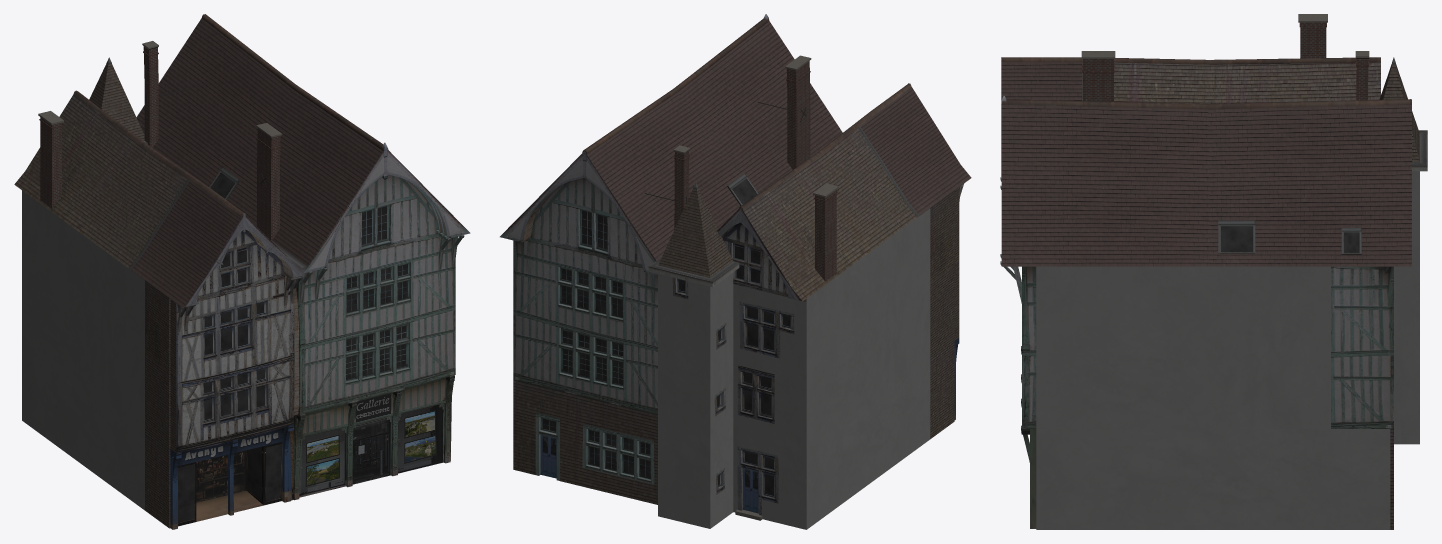
File: troyes_shop_8_france.glb
The picture shows the model from 3 angles, left to right: view 1: azimuth 30°, elevation 25°; view 2: azimuth 150°, elevation 25°; view 3: azimuth 270°, elevation 25°; orthographic projection. The views are drawn at different scales.
Parts seen in each view (by area): view 1: 17_17_0; view 2: 17_17_0; view 3: 17_17_0.
Boxes of the visible parts, x1,y1,x2,y2 form: 17_17_0: (14,14,470,529); 17_17_0: (500,14,971,529); 17_17_0: (1000,14,1427,529).
Size of the model in its own units: 14.45 by 16.63 by 16.44.
Materials: 1 (1 with a texture image).
